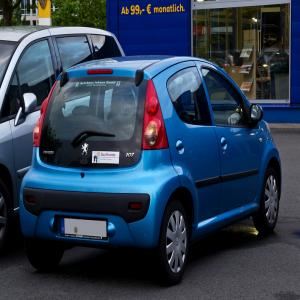Vehicle-registration-plate: (61, 220, 108, 240)
